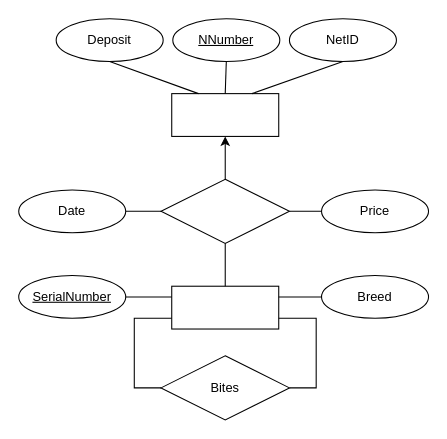
Image size: 447x439. Some labels were removed from this diagram. Each missing label, with the centre of its shape:
"Bought" goes at (x=224, y=210).
"Dog" goes at (x=225, y=307).
"Student" goes at (x=225, y=114).
